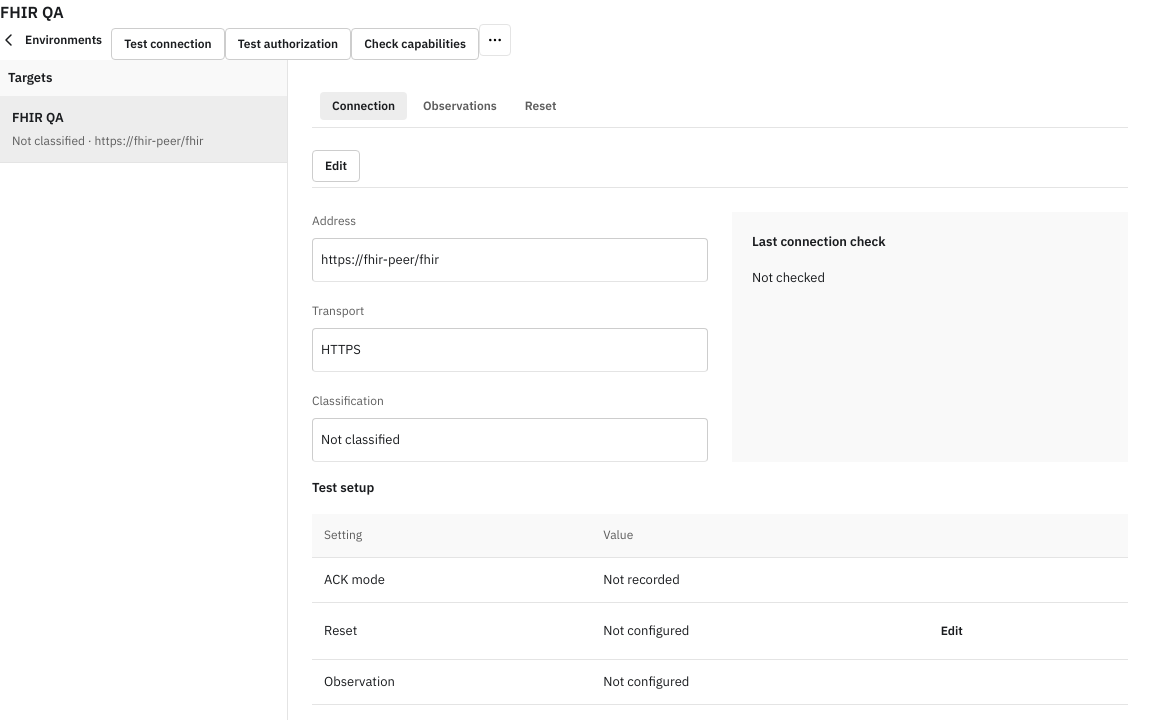
FHIR connection, authorization and capability checks stay separate explicit reviews and dated claims become stale after an edit
Check: the text "https://fhir-peer/fhir" is shown, box [312, 238, 708, 282]
Check: the button "Test authorization" is shown, box [225, 28, 351, 60]
What coordinates should you click on to do the following:
click the button "Check capabilities"
I would click on:
 (415, 44)
Its box is [351, 28, 479, 60].
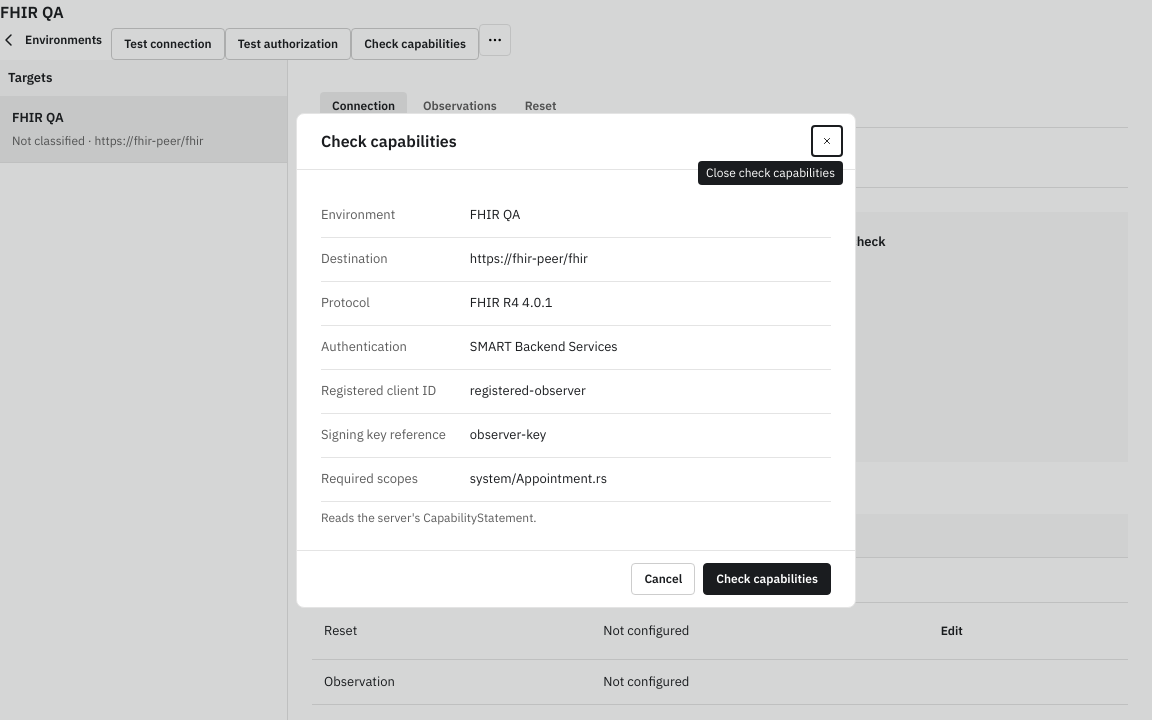
Check: the text "system/Appointment.rs" is shown, box [470, 458, 831, 502]
What coordinates should you click on to do the following:
click the button "Check capabilities" below "Reads the server's CapabilityStatement."
I would click on:
 (767, 578)
Its box is [703, 562, 831, 594].
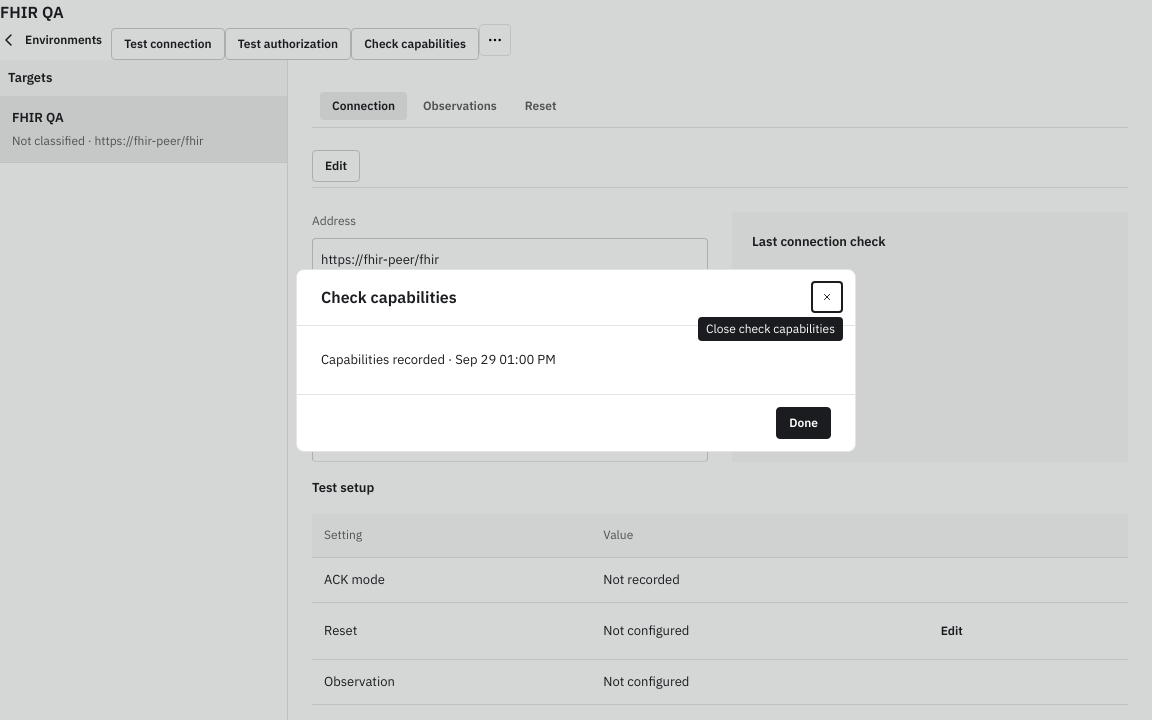
Check: the message shows "Capabilities recorded", box [321, 350, 445, 368]
